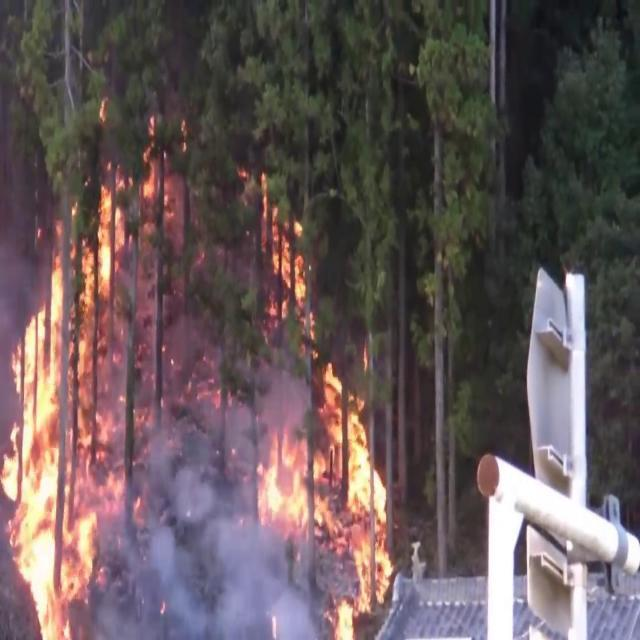Fire: (0, 170, 149, 636), (255, 349, 398, 621), (256, 164, 328, 350)
Smoke: (98, 415, 290, 640)
